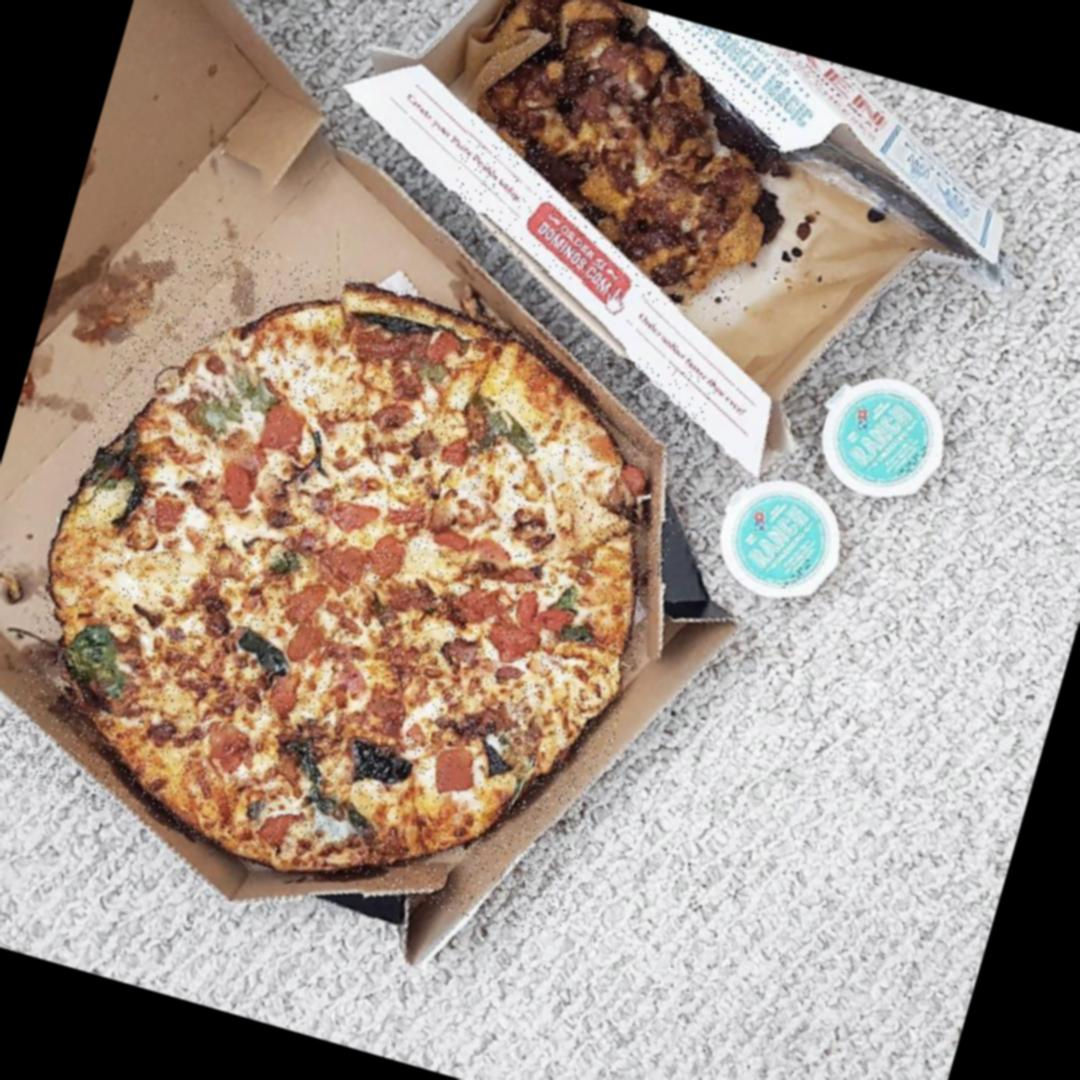Arugula: (185, 352, 274, 438), (60, 612, 136, 696), (85, 428, 158, 506), (461, 392, 545, 456), (299, 783, 382, 837), (228, 625, 296, 676)
Cheese: (114, 481, 254, 617), (458, 420, 611, 527), (294, 362, 410, 488)
Chicken: (638, 169, 702, 233), (594, 36, 652, 102), (540, 57, 603, 108), (486, 80, 543, 134), (694, 169, 740, 230), (620, 222, 675, 256), (608, 118, 645, 152)
Ham: (252, 396, 313, 470), (426, 515, 505, 570), (426, 740, 487, 808), (363, 664, 420, 736), (213, 454, 271, 522), (296, 532, 371, 583), (277, 575, 337, 633), (351, 324, 422, 373), (199, 719, 258, 773), (452, 584, 507, 636), (512, 594, 571, 640), (322, 656, 370, 710), (260, 670, 310, 720), (364, 532, 406, 590), (144, 495, 193, 540), (256, 808, 303, 853), (424, 324, 464, 373), (286, 618, 326, 666), (490, 622, 538, 658), (334, 500, 378, 528), (616, 462, 647, 494)
Pizza: (0, 217, 717, 942), (435, 0, 806, 325)
